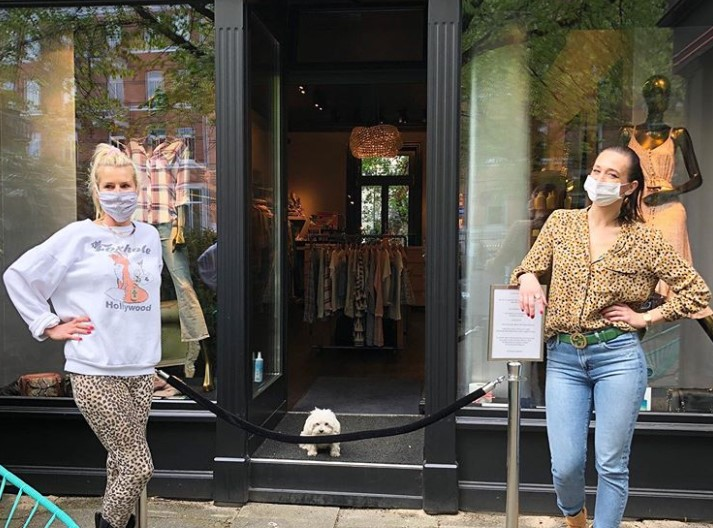face_with_mask: (582, 144, 642, 211), (93, 158, 141, 226)
